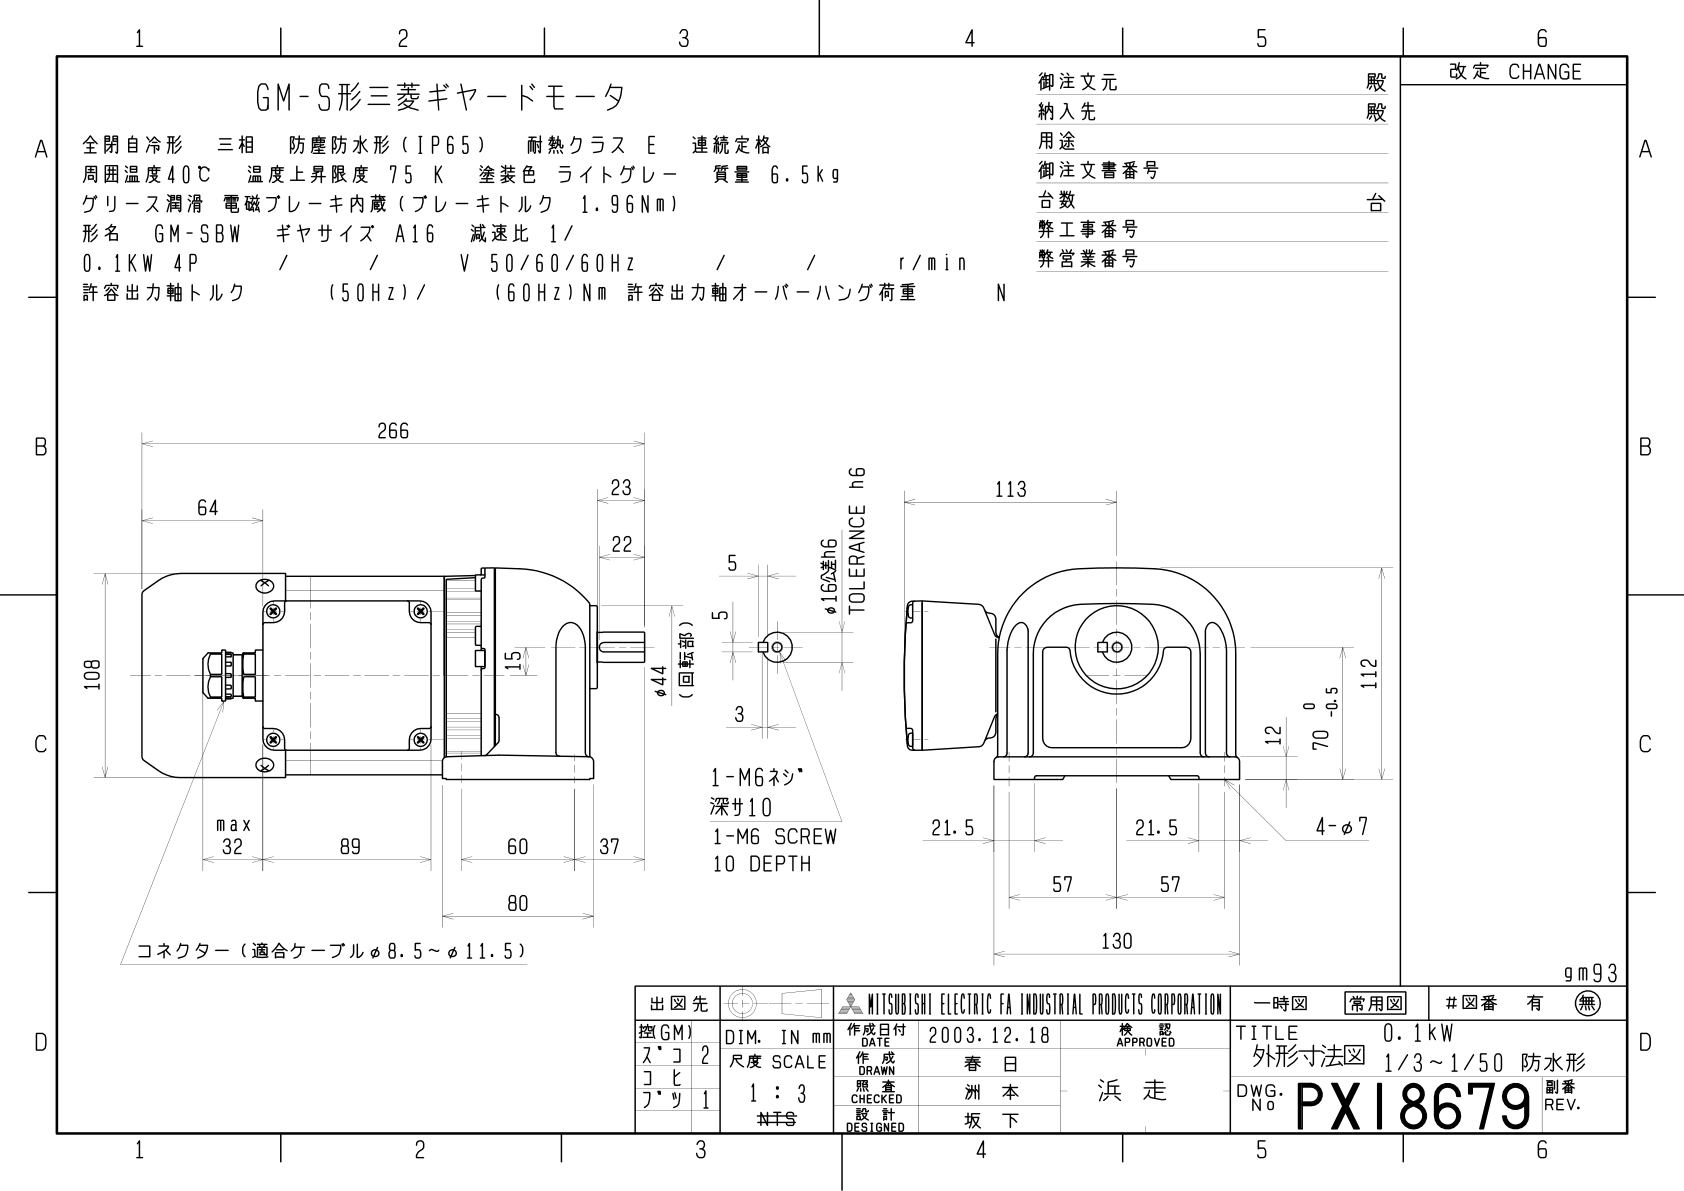GM_S_IP65＿三相_脚: (58, 398, 1401, 969)
